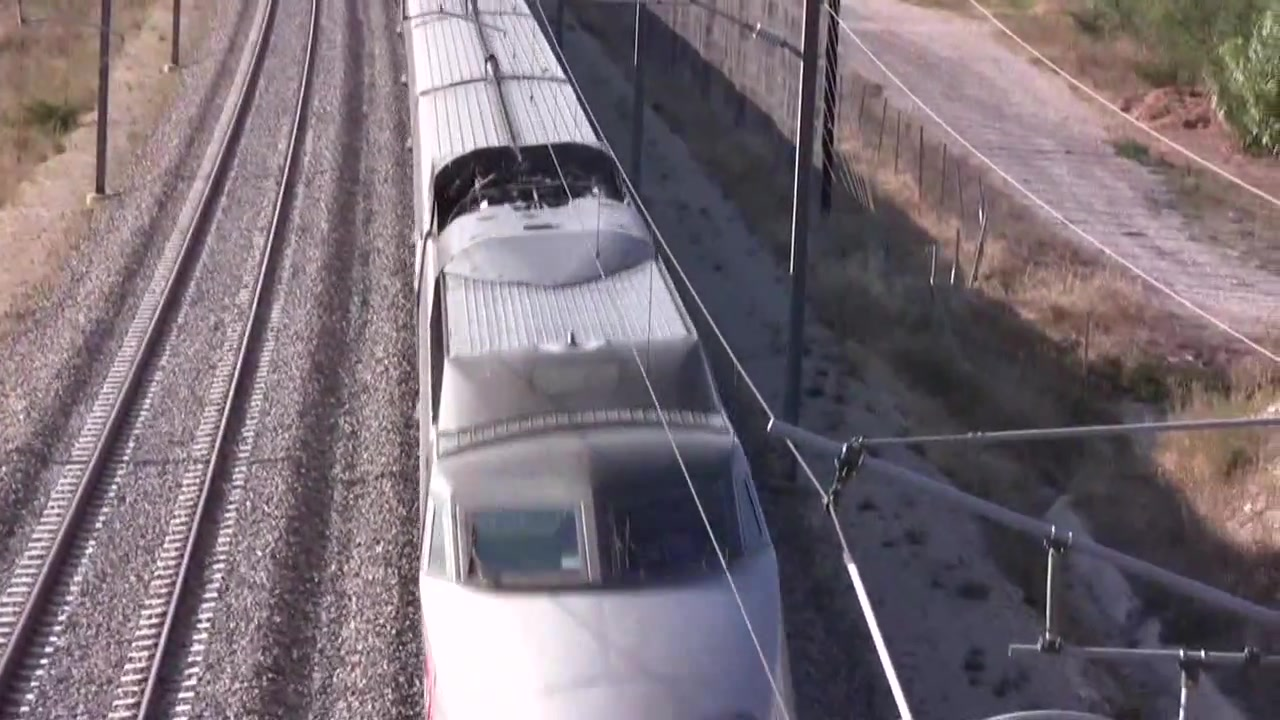train: (399, 1, 802, 720)
